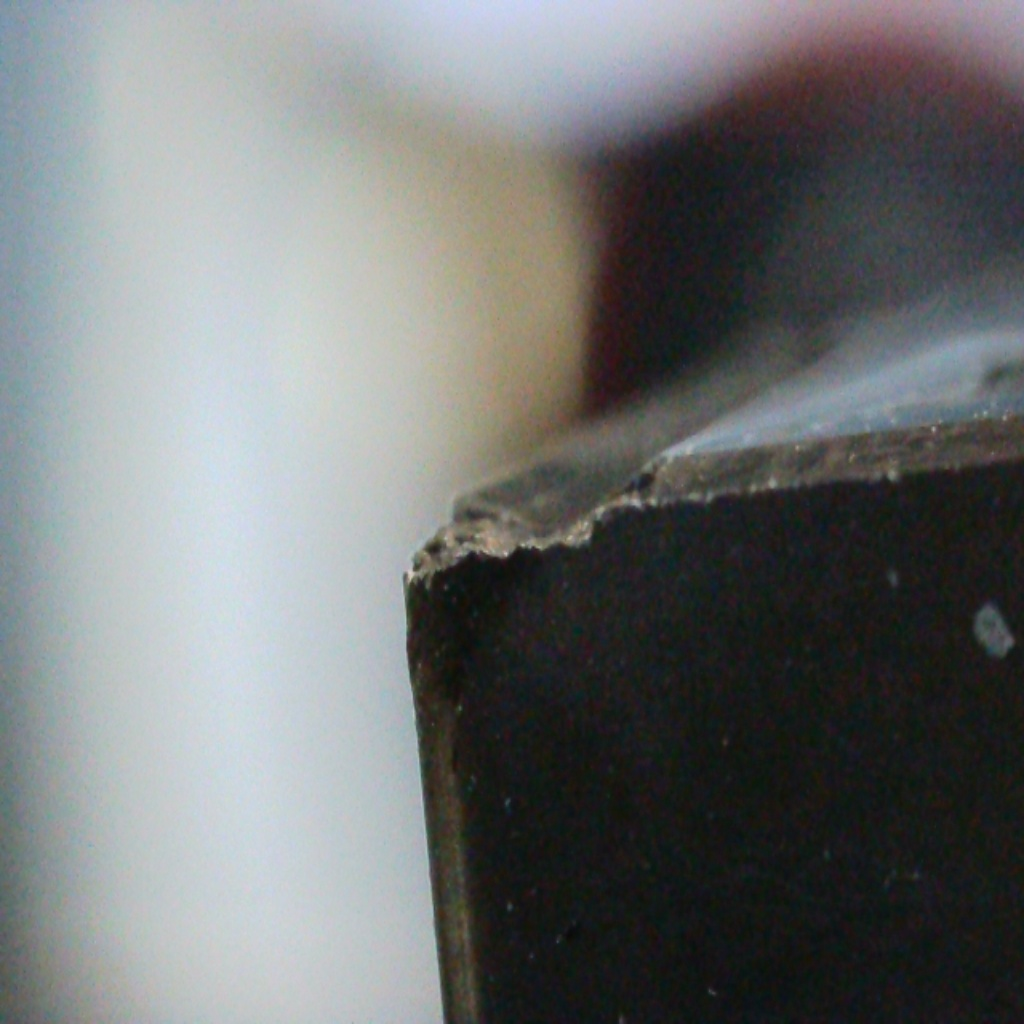flank_wear: (400, 510, 601, 644)
